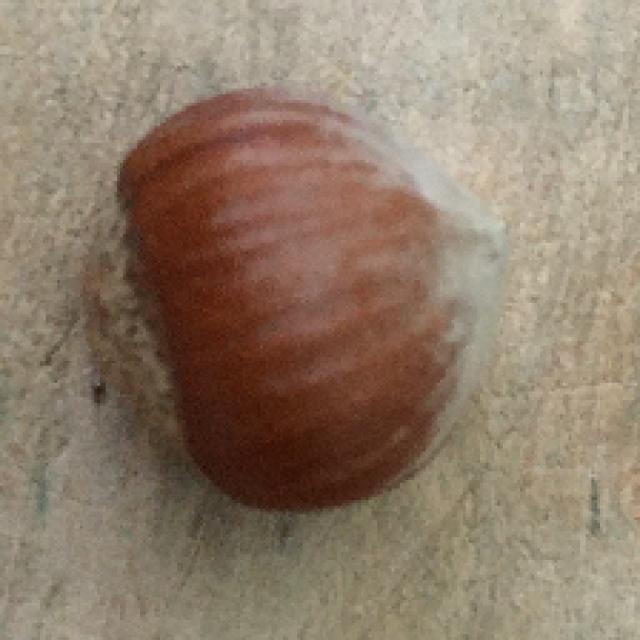qualityHazelnut: (79, 86, 508, 513)
